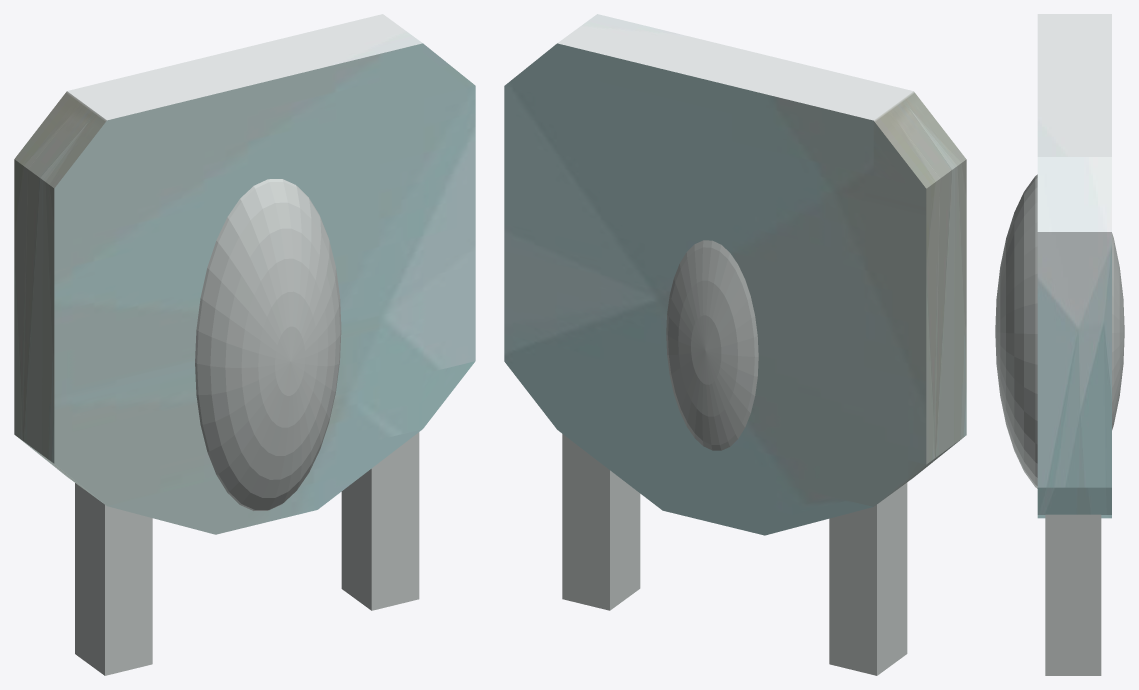
The model's file is Ship.obj.
The picture shows the model from 3 angles, left to right: view 1: azimuth 30°, elevation 25°; view 2: azimuth 150°, elevation 25°; view 3: azimuth 270°, elevation 25°; orthographic projection. The views are drawn at different scales.
Parts seen in each view (by area): view 1: Cube; view 2: Cube; view 3: Cube.
Part boxes in pixels (x1,y1,x2,y2): Cube: [14, 14, 475, 675]; Cube: [504, 14, 966, 675]; Cube: [995, 14, 1124, 675].
Size of the model in its own units: 2 by 2.54 by 0.5741.
Materials: 1 (1 with a texture image).
